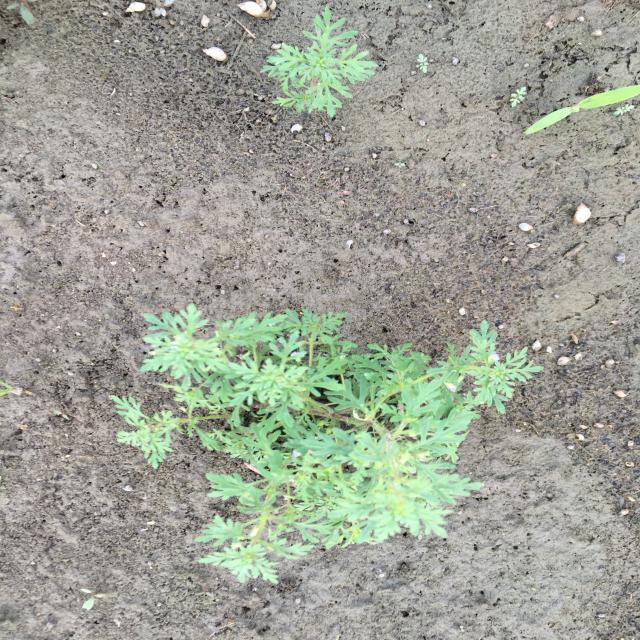Ragweed: (107, 303, 545, 587), (258, 6, 380, 119)
